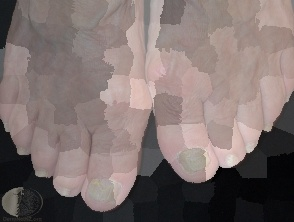Nail_psoriasis: (176, 140, 213, 178), (85, 176, 122, 204), (222, 153, 240, 172), (55, 183, 71, 199), (260, 118, 276, 134), (14, 145, 28, 157), (0, 122, 12, 134), (246, 143, 258, 153), (34, 169, 47, 178), (284, 94, 291, 103)
